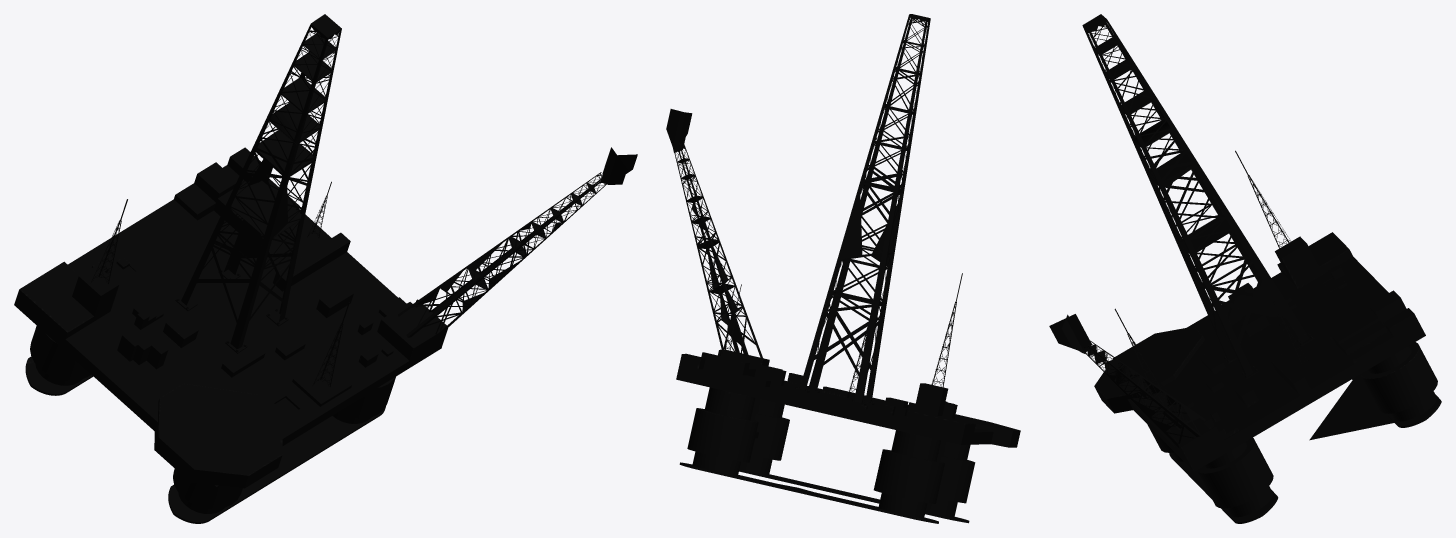
Rendered from Platform.glb.
3 renders of one model, left to right at view 1: azimuth 30°, elevation 25°; view 2: azimuth 150°, elevation 25°; view 3: azimuth 270°, elevation 25°, orthographic. The views are drawn at different scales.
Parts seen in each view (by area): view 1: node_id5; view 2: node_id5; view 3: node_id5.
Part boxes in pixels (left/top/right/bottom): node_id5: left=14, top=14, right=637, bottom=523; node_id5: left=666, top=14, right=1020, bottom=523; node_id5: left=1049, top=14, right=1441, bottom=523.
Bounding box in the file's own units: 0.482 × 0.5 × 0.374.
1 material, 1 textured.
